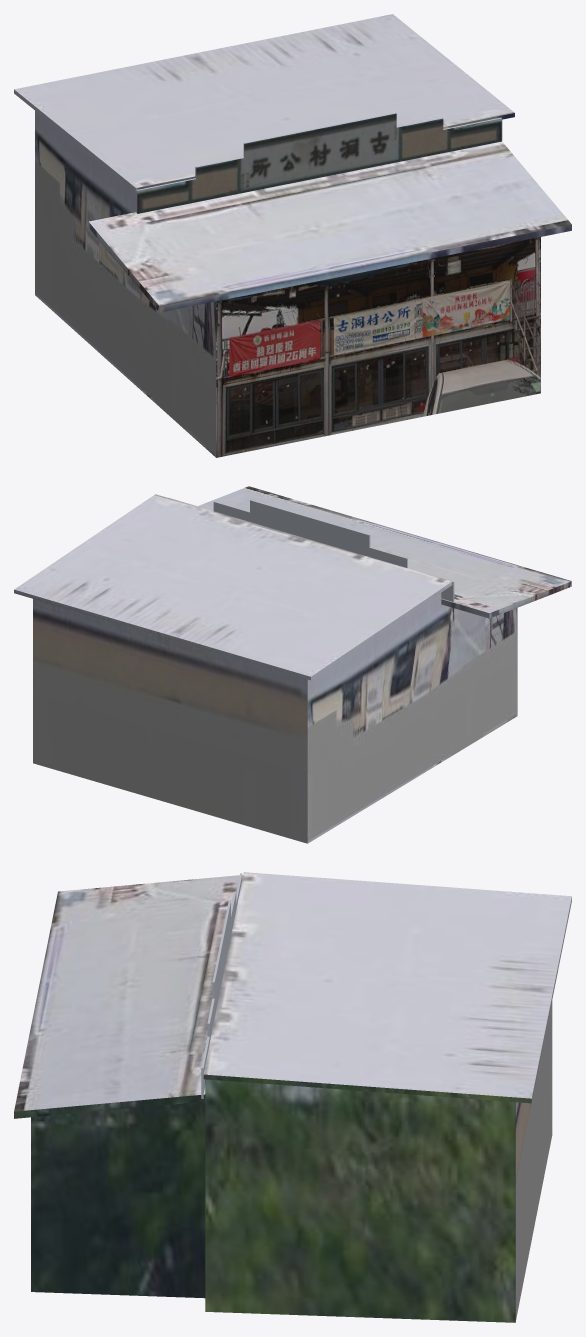
3 views of the same model, one above another, from view 1: azimuth 30°, elevation 25°; view 2: azimuth 150°, elevation 25°; view 3: azimuth 270°, elevation 25° (orthographic). The views are drawn at different scales.
Parts seen in each view (by area): view 1: B286454044901062A0; view 2: B286454044901062A0; view 3: B286454044901062A0.
Part boxes in pixels (bbox=[...]): B286454044901062A0: bbox=[14, 14, 571, 457]; B286454044901062A0: bbox=[14, 486, 571, 843]; B286454044901062A0: bbox=[14, 872, 571, 1322].
Bounding box in the file's own units: 12.42 × 6.43 × 11.9.
Materials: 1 (1 with a texture image).
